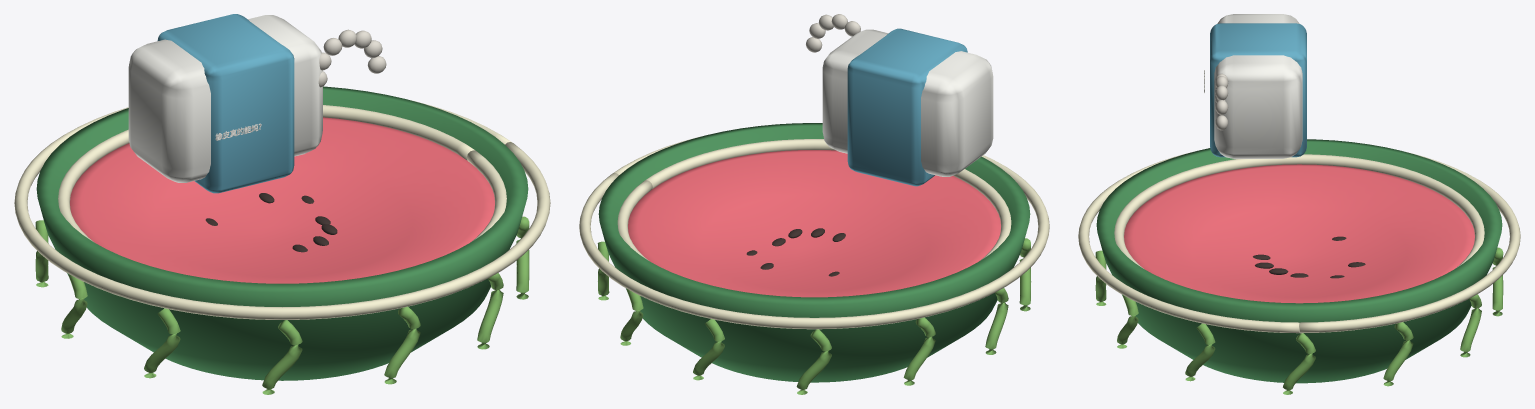
File: K02_Watermelon_Rubber_Eraser_Stew.glb
3 views of the same model, side by side, from view 1: azimuth 30°, elevation 25°; view 2: azimuth 150°, elevation 25°; view 3: azimuth 270°, elevation 25° (orthographic). The views are drawn at different scales.
Parts seen in each view (by area): view 1: K02 handcut ruby flesh in true concave slice, K02 sculpted watermelon cross-section bowl carved, K02_MELON_ACTOR | Watermelon juicy pale rind, K02 actual eraser cardboard sleeve, K02_ERASER_ACTOR | School premium soft white eraser rubber, K02_MELON_ACTOR | Actual watermelon irregular lighter green , K02_ERASER_ACTOR | Chewed eraser irregular bite crumb, K02_MELON_ACTOR | Black watermelon glossy seed droplets; view 2: K02 handcut ruby flesh in true concave slice, K02 sculpted watermelon cross-section bowl carved, K02_MELON_ACTOR | Watermelon juicy pale rind, K02 actual eraser cardboard sleeve, K02_ERASER_ACTOR | School premium soft white eraser rubber, K02_MELON_ACTOR | Actual watermelon irregular lighter green , K02_ERASER_ACTOR | Chewed eraser irregular bite crumb, K02_MELON_ACTOR | Black watermelon glossy seed droplets; view 3: K02 handcut ruby flesh in true concave slice, K02 sculpted watermelon cross-section bowl carved, K02_MELON_ACTOR | Watermelon juicy pale rind, K02_ERASER_ACTOR | School premium soft white eraser rubber, K02 actual eraser cardboard sleeve, K02_MELON_ACTOR | Actual watermelon irregular lighter green , K02_ERASER_ACTOR | Chewed eraser irregular bite crumb, K02_MELON_ACTOR | Black watermelon glossy seed droplets.
Part boxes in pixels (box(x1,y1,x2,y2)): K02 handcut ruby flesh in true concave slice: box(70, 117, 494, 283); K02 sculpted watermelon cross-section bowl carved: box(36, 86, 528, 380); K02_MELON_ACTOR | Watermelon juicy pale rind: box(14, 100, 550, 319); K02 actual eraser cardboard sleeve: box(157, 14, 294, 193); K02_ERASER_ACTOR | School premium soft white eraser rubber: box(128, 15, 322, 182); K02_MELON_ACTOR | Actual watermelon irregular lighter green : box(35, 216, 529, 394); K02_ERASER_ACTOR | Chewed eraser irregular bite crumb: box(318, 29, 386, 87); K02_MELON_ACTOR | Black watermelon glossy seed droplets: box(205, 193, 337, 252); K02 handcut ruby flesh in true concave slice: box(628, 150, 1000, 297); K02 sculpted watermelon cross-section bowl carved: box(598, 123, 1030, 382); K02_MELON_ACTOR | Watermelon juicy pale rind: box(579, 137, 1049, 329); K02 actual eraser cardboard sleeve: box(847, 28, 967, 186); K02_ERASER_ACTOR | School premium soft white eraser rubber: box(822, 29, 993, 176); K02_MELON_ACTOR | Actual watermelon irregular lighter green : box(597, 238, 1031, 394); K02_ERASER_ACTOR | Chewed eraser irregular bite crumb: box(806, 14, 860, 52); K02_MELON_ACTOR | Black watermelon glossy seed droplets: box(746, 228, 845, 276); K02 handcut ruby flesh in true concave slice: box(1124, 164, 1474, 303); K02 sculpted watermelon cross-section bowl carved: box(1096, 139, 1502, 383); K02_MELON_ACTOR | Watermelon juicy pale rind: box(1078, 152, 1520, 333); K02_ERASER_ACTOR | School premium soft white eraser rubber: box(1204, 14, 1302, 158); K02 actual eraser cardboard sleeve: box(1210, 23, 1306, 157); K02_MELON_ACTOR | Actual watermelon irregular lighter green : box(1095, 247, 1503, 394); K02_ERASER_ACTOR | Chewed eraser irregular bite crumb: box(1215, 73, 1228, 130); K02_MELON_ACTOR | Black watermelon glossy seed droplets: box(1253, 236, 1365, 278).
Size of the model in its own units: 2.05 by 1.38 by 2.05.
